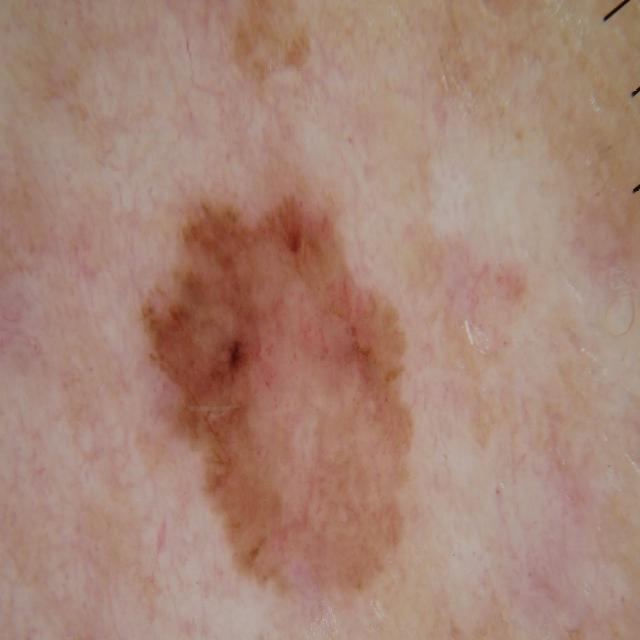Melanoma: (128, 190, 545, 640)
